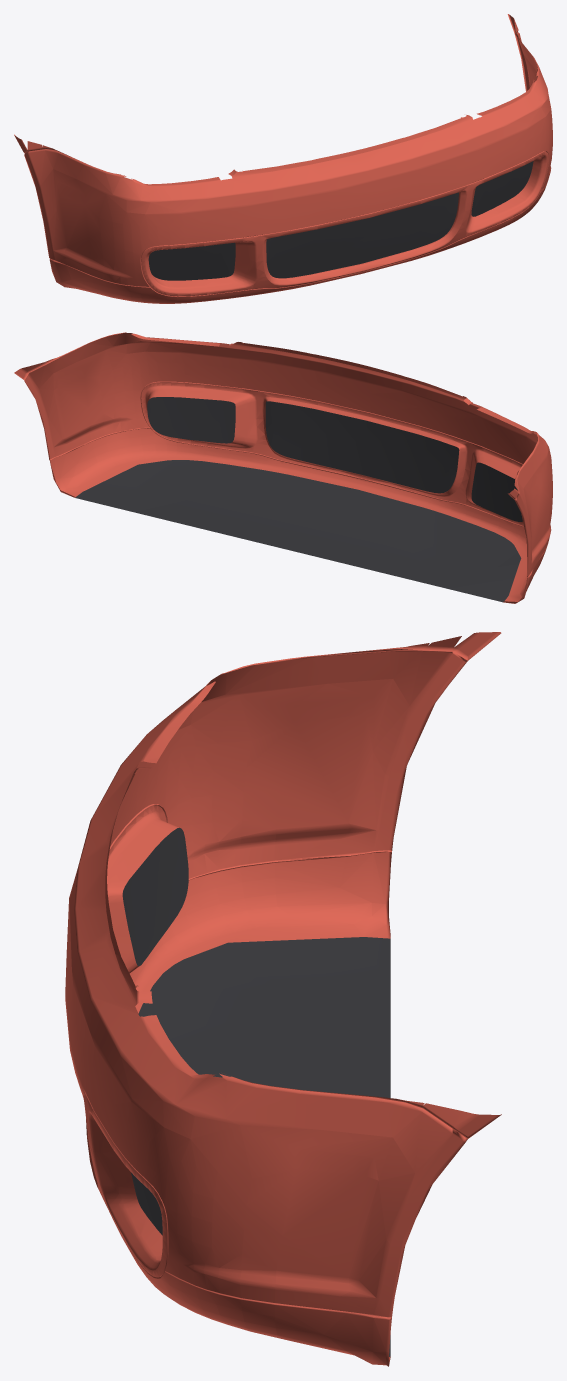
Rendered from wendtStrom_frontBumper_euro.glb.
3 views of the same model, one above another, from view 1: azimuth 30°, elevation 25°; view 2: azimuth 150°, elevation 25°; view 3: azimuth 270°, elevation 25° (orthographic). The views are drawn at different scales.
Parts seen in each view (by area): view 1: frontBumper_euro; view 2: frontBumper_euro; view 3: frontBumper_euro.
Part boxes in pixels (bbox=[...]): frontBumper_euro: bbox=[14, 14, 552, 303]; frontBumper_euro: bbox=[14, 332, 552, 603]; frontBumper_euro: bbox=[65, 632, 501, 1366].
Size of the model in its own units: 1.73 by 0.4573 by 0.6593.
